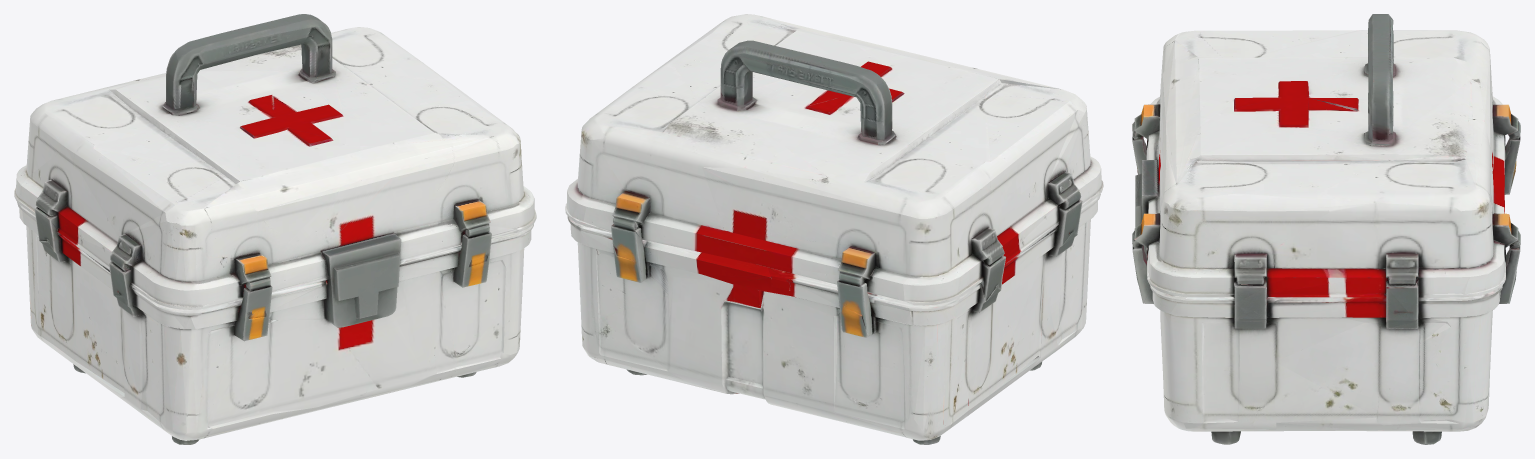
The model's file is medkit.glb.
The picture shows the model from 3 angles, left to right: view 1: azimuth 30°, elevation 25°; view 2: azimuth 150°, elevation 25°; view 3: azimuth 270°, elevation 25°; orthographic projection. The views are drawn at different scales.
Size of the model in its own units: 1.9 by 1.48 by 1.59.
Materials: 1 (1 with a texture image).
